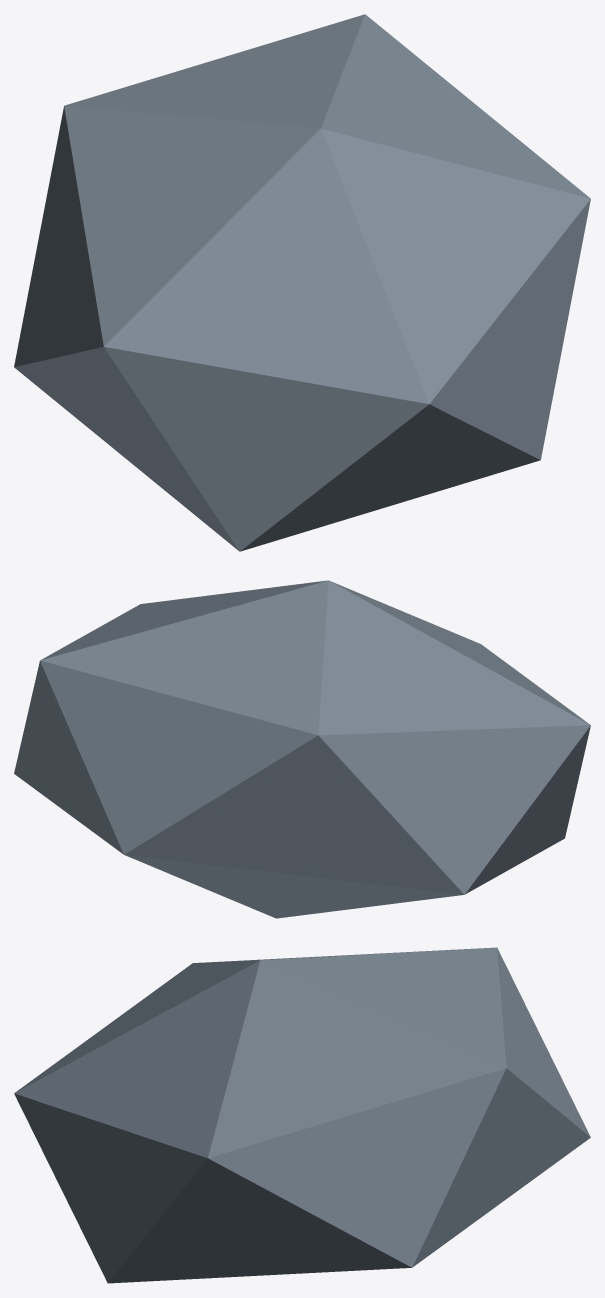
Rendered from INT_B_WallRubble_01_Stone_3.glb.
3 views of the same model, one above another, from view 1: azimuth 30°, elevation 25°; view 2: azimuth 150°, elevation 25°; view 3: azimuth 270°, elevation 25° (orthographic). The views are drawn at different scales.
Parts seen in each view (by area): view 1: INT_B_WallRubble_01_Stone_3; view 2: INT_B_WallRubble_01_Stone_3; view 3: INT_B_WallRubble_01_Stone_3.
Part boxes in pixels (x1,y1,x2,y2): INT_B_WallRubble_01_Stone_3: [14, 14, 590, 551]; INT_B_WallRubble_01_Stone_3: [14, 580, 590, 918]; INT_B_WallRubble_01_Stone_3: [14, 947, 590, 1283].
Size of the model in its own units: 0.3209 by 0.2037 by 0.3483.
